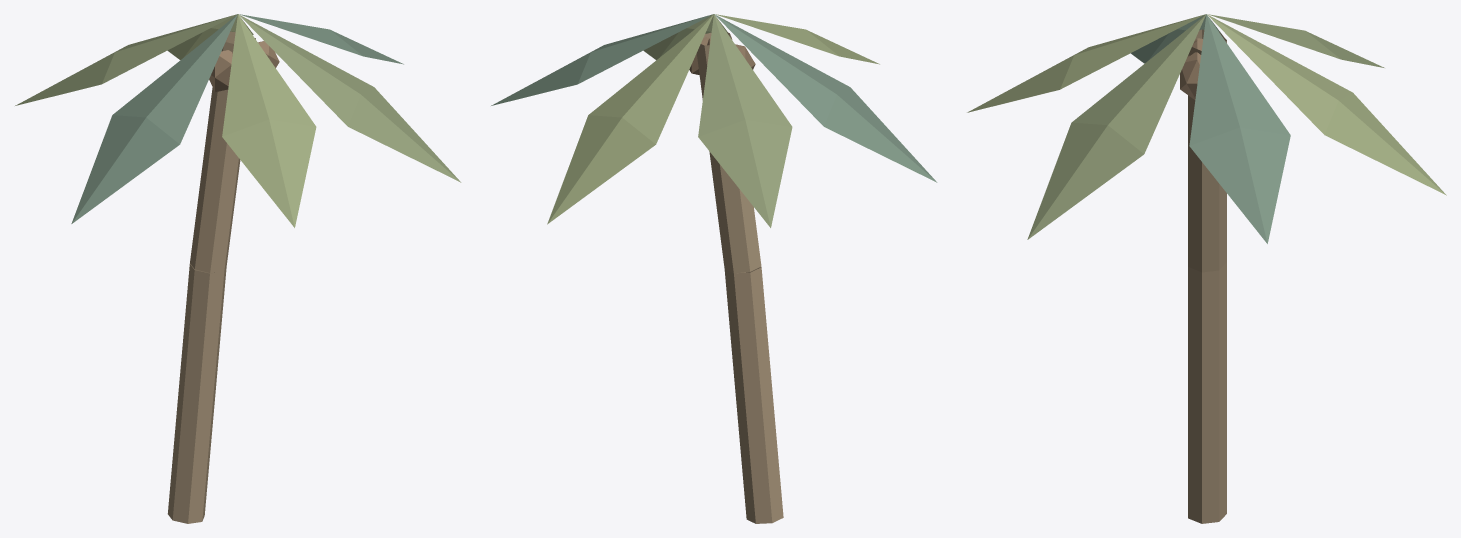
3 views of the same model, side by side, from view 1: azimuth 30°, elevation 25°; view 2: azimuth 150°, elevation 25°; view 3: azimuth 270°, elevation 25° (orthographic). The views are drawn at different scales.
Parts seen in each view (by area): view 1: T17; view 2: T17; view 3: T17.
Boxes of the visible parts, x1,y1,x2,y2 form: T17: (15, 14, 461, 523); T17: (491, 14, 937, 523); T17: (967, 14, 1446, 523).
Bounding box in the file's own units: 2.13 × 2.56 × 2.11.
